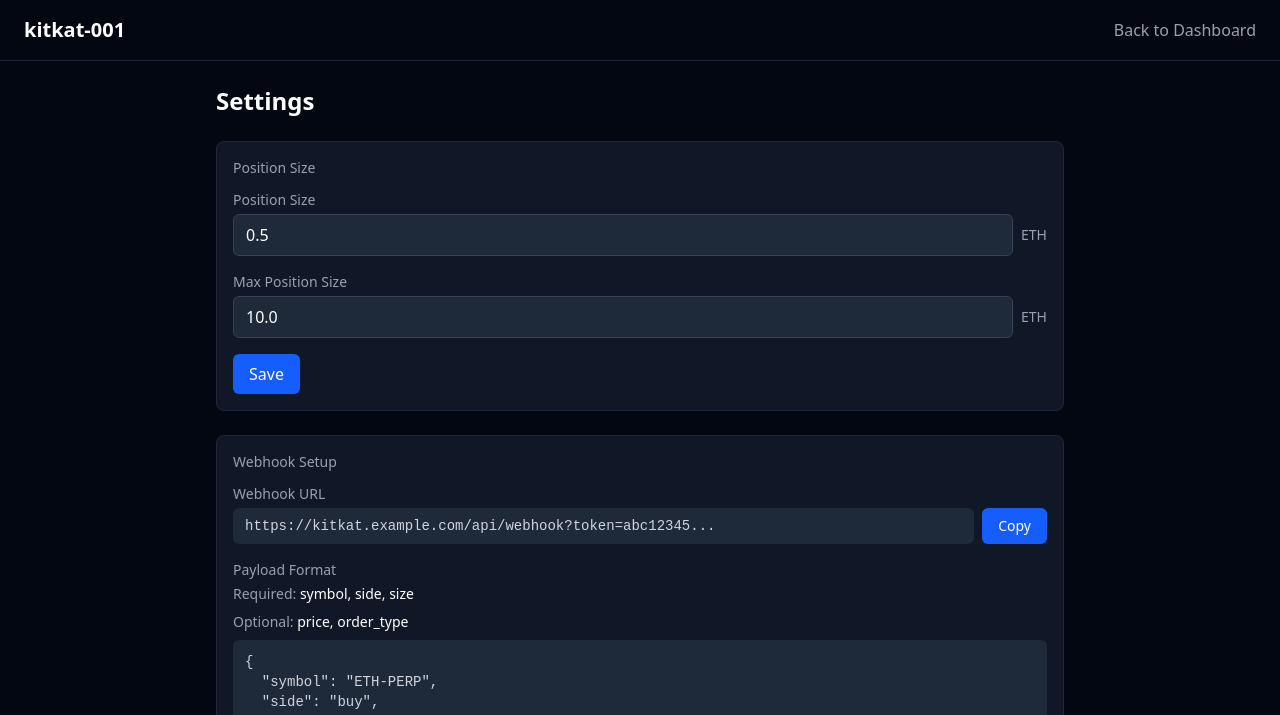
SettingsPage - Webhook Setup › shows Copied! confirmation after copy
This screenshot has width=1280, height=715.
Click the button "Copy" at (1015,526), box [982,508,1047,544]
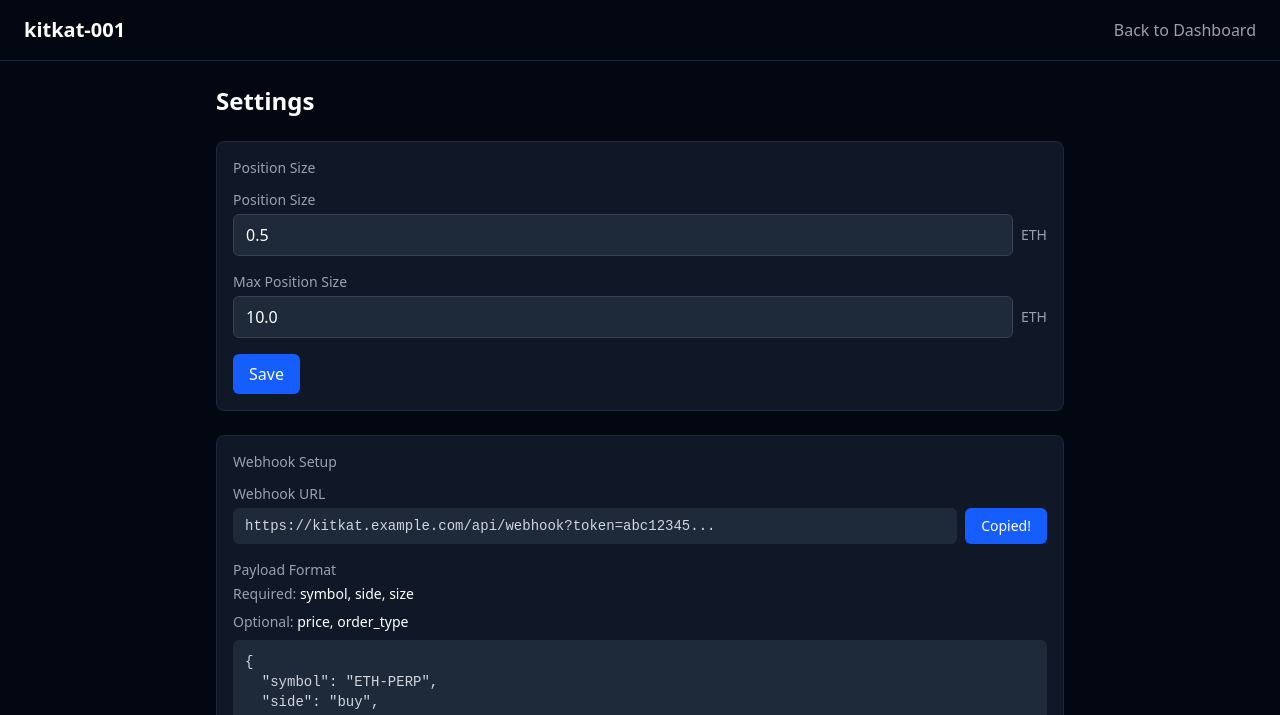
Expected: the button "Copied!" is shown, [965,508,1047,544]
